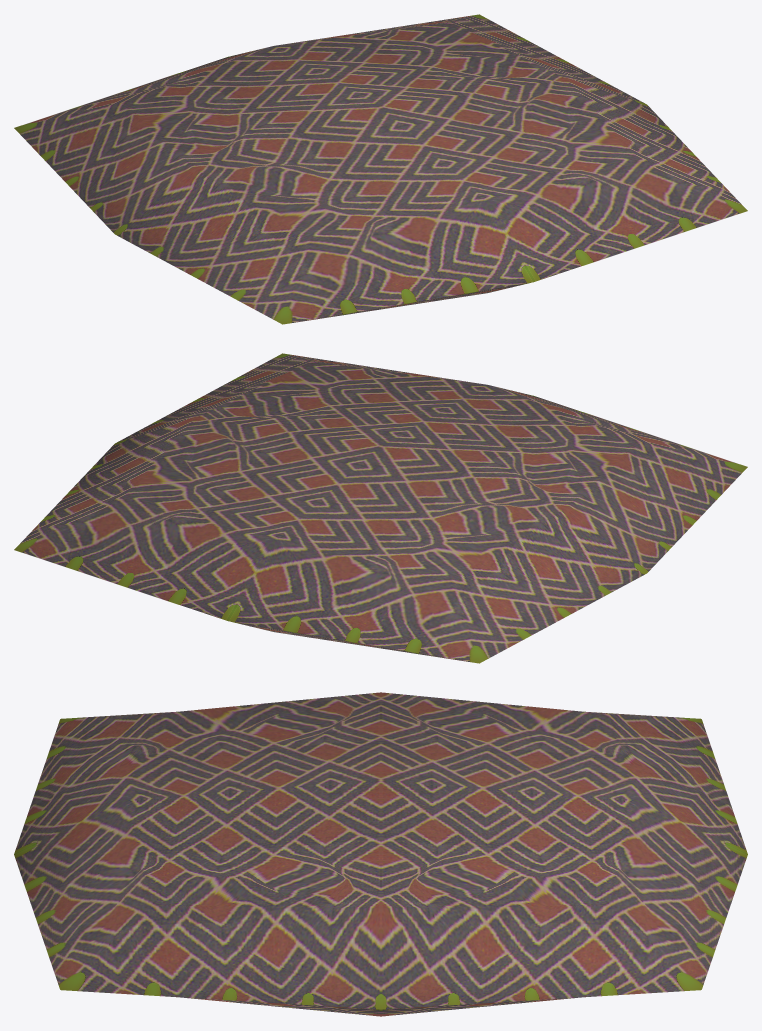
Rendered from pillow.glb.
3 views of the same model, one above another, from view 1: azimuth 30°, elevation 25°; view 2: azimuth 150°, elevation 25°; view 3: azimuth 270°, elevation 25° (orthographic). The views are drawn at different scales.
Parts seen in each view (by area): view 1: Pillow; view 2: Pillow; view 3: Pillow.
Part boxes in pixels (x1,y1,x2,y2): Pillow: (14, 14, 747, 324); Pillow: (14, 353, 747, 663); Pillow: (14, 692, 747, 1016).
Bounding box in the file's own units: 1.18 × 0.2652 × 1.18.
Materials: 1 (1 with a texture image).
